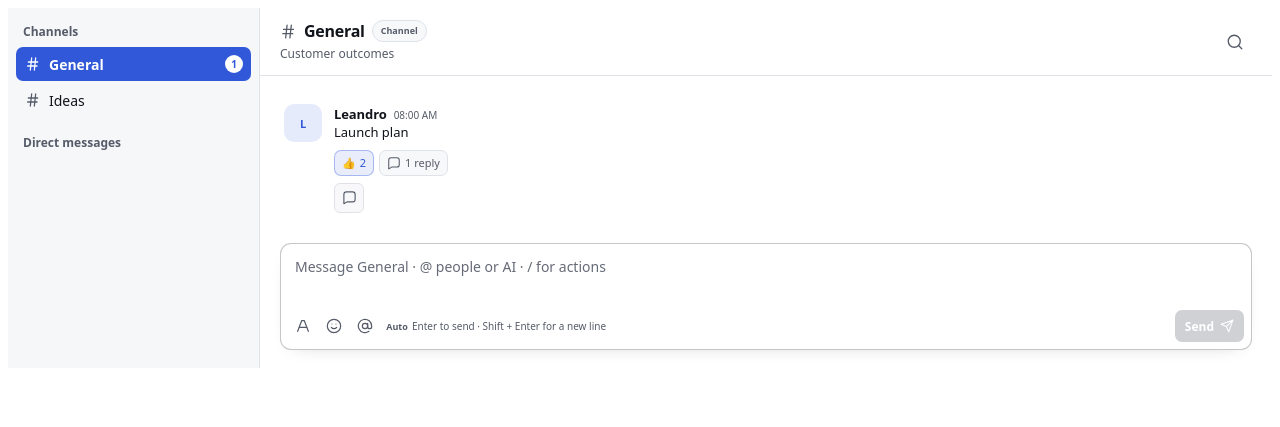
Test case: React 18 host compatibility › supports keyboard resizing and expanding a thread
Click the button "1 reply" at {"x": 413, "y": 163}, box [379,150,448,176]
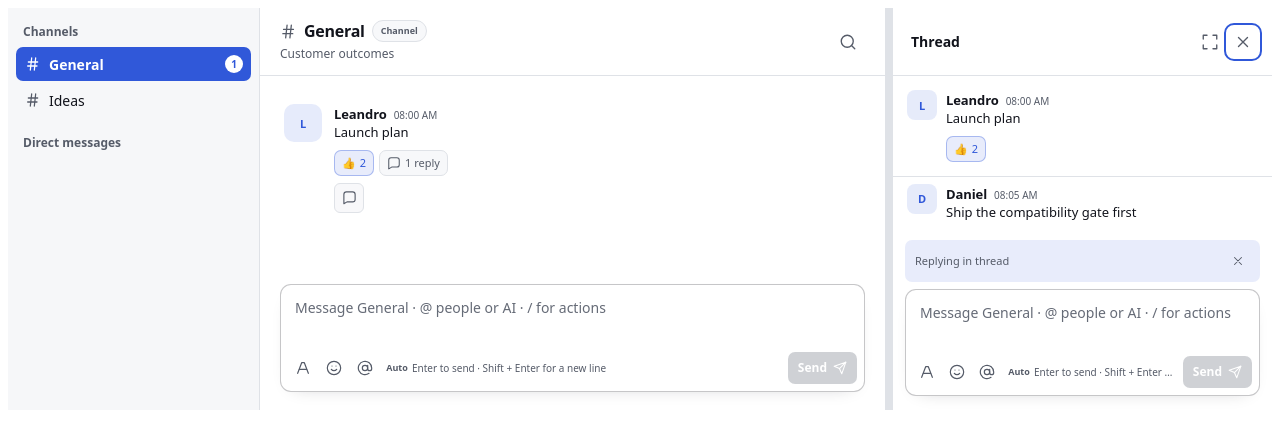
Press ArrowLeft in the element named "Resize thread", box [885,8,892,410]
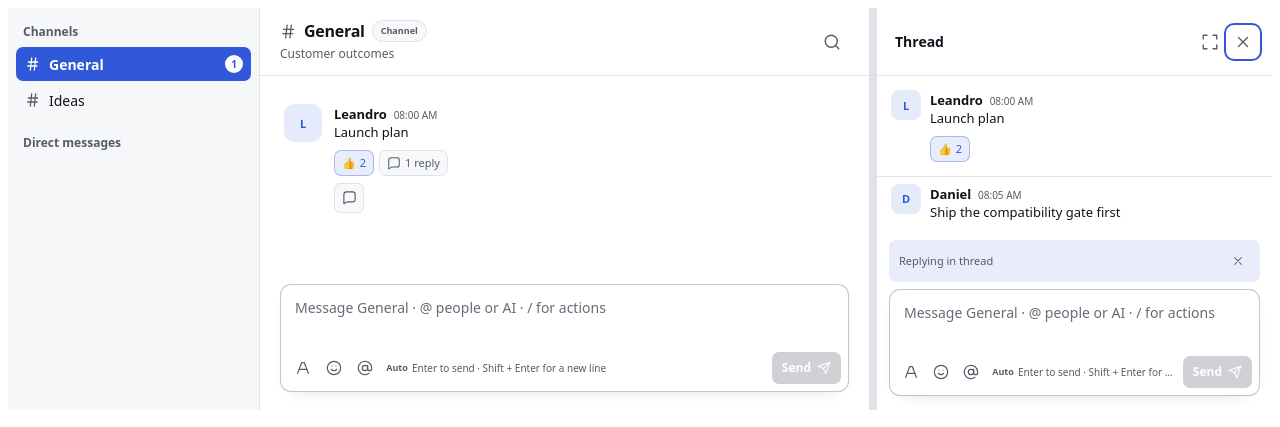
Result: the element named "Resize thread" has attribute aria-valuenow="396" at [869,8,876,410]
Click the button named "Expand thread" at {"x": 1210, "y": 42}, box [1195,26,1225,56]
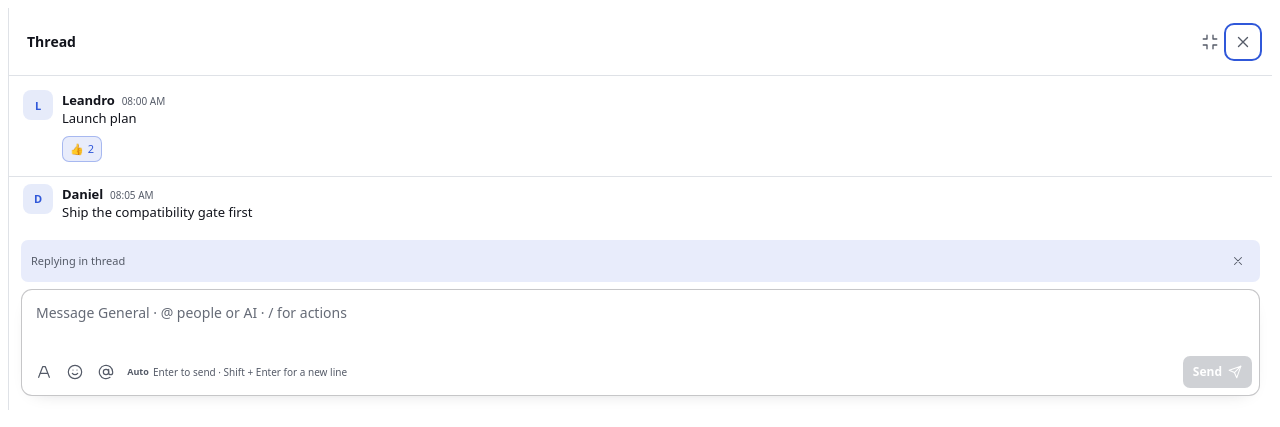
Result: the button named "Restore split view" is shown at [1195,26,1225,56]
